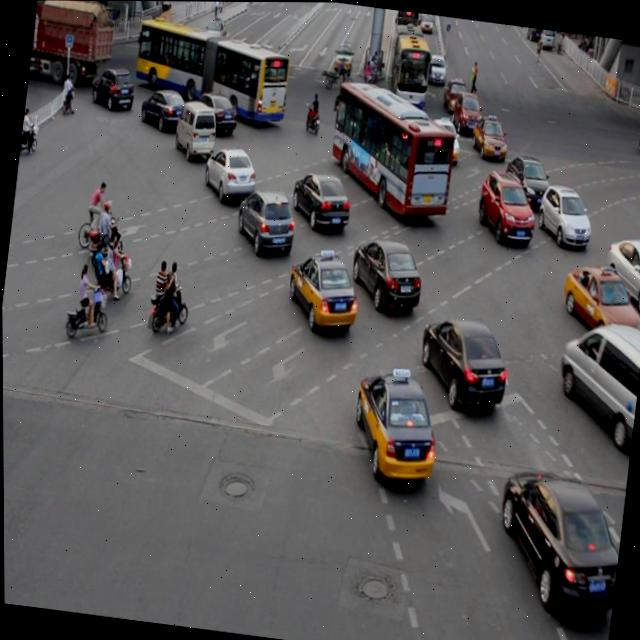car: (487, 462, 627, 617), (346, 365, 443, 480), (413, 309, 511, 411), (555, 258, 640, 345), (283, 246, 361, 332), (347, 233, 425, 313), (472, 167, 538, 245), (233, 184, 297, 257), (288, 168, 353, 233), (533, 181, 594, 248), (597, 231, 640, 312), (201, 142, 258, 203), (499, 150, 553, 212), (188, 89, 239, 137), (89, 64, 137, 113), (138, 84, 188, 131), (469, 113, 509, 161)
truck: (549, 313, 640, 448), (172, 98, 218, 156)
van: (323, 82, 458, 219), (132, 17, 293, 120)
